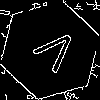V: (25, 25, 81, 81)
